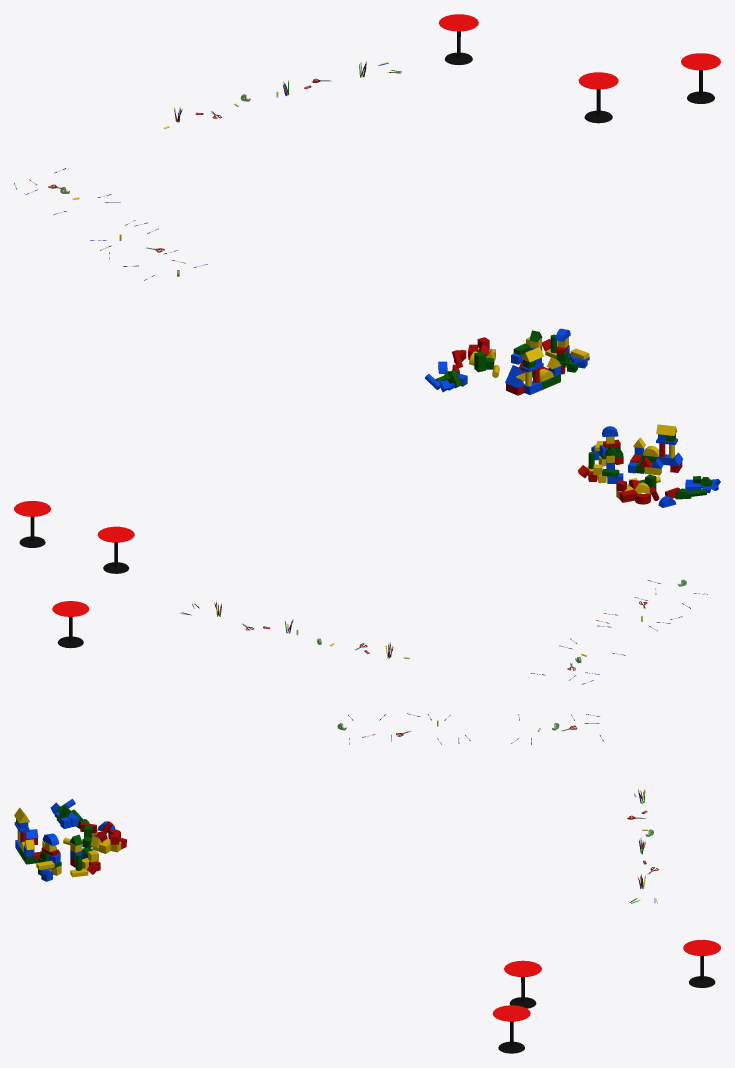
The model's file is Ensemble1.FBX.
3 renders of one model, top to bottom at view 1: azimuth 30°, elevation 25°; view 2: azimuth 150°, elevation 25°; view 3: azimuth 270°, elevation 25°, orthographic. The views are drawn at different scales.
Visible parts, largest first — view 1: Briques, TB2, TB1, TB3; view 2: Briques, TB3, TB2, TB1; view 3: Briques, TB3, TB1, TB2.
Boxes of the visible parts, x1=… form: Briques: x1=425, y1=328, x2=589, y2=395; TB2: x1=578, y1=72, x2=618, y2=123; TB1: x1=438, y1=14, x2=478, y2=65; TB3: x1=681, y1=53, x2=720, y2=103; Briques: x1=578, y1=424, x2=720, y2=507; TB3: x1=14, y1=501, x2=50, y2=547; TB2: x1=97, y1=526, x2=134, y2=573; TB1: x1=52, y1=601, x2=89, y2=648; Briques: x1=14, y1=799, x2=126, y2=881; TB3: x1=492, y1=1005, x2=530, y2=1053; TB1: x1=683, y1=939, x2=720, y2=987; TB2: x1=504, y1=960, x2=541, y2=1008.
Size of the model in its own units: 485 by 37.08 by 472.
